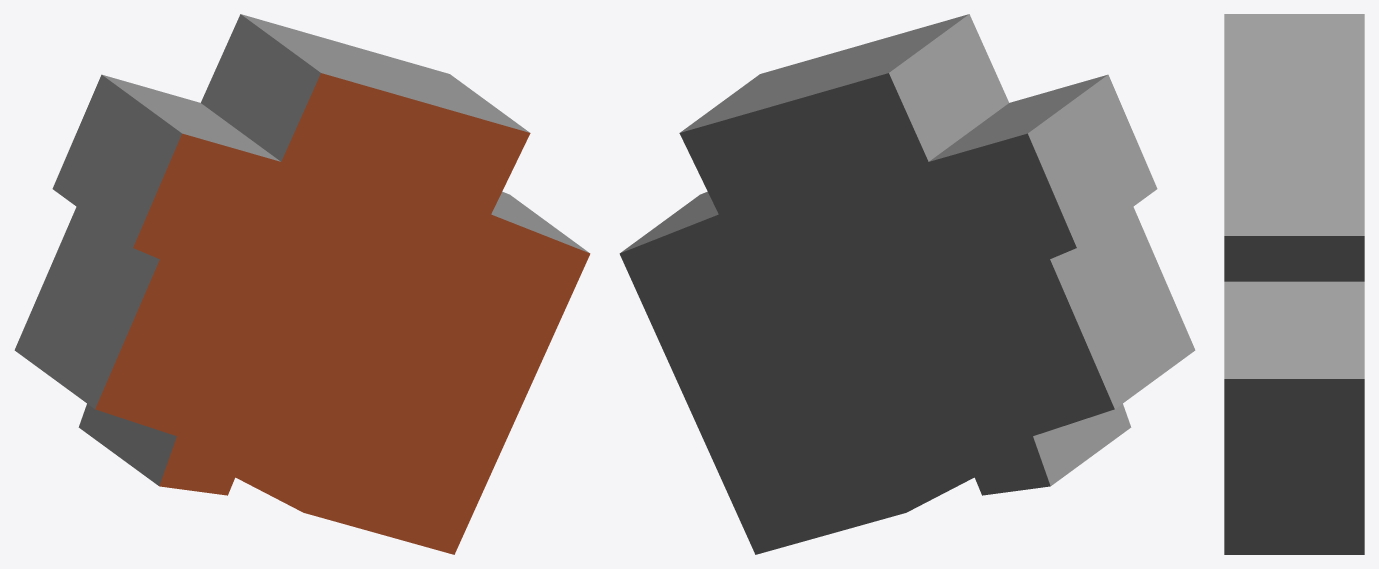
Rendered from construction_4880_assumed_A_Casa_h6m.obj.
The picture shows the model from 3 angles, left to right: view 1: azimuth 30°, elevation 25°; view 2: azimuth 150°, elevation 25°; view 3: azimuth 270°, elevation 25°; orthographic projection. The views are drawn at different scales.
Parts seen in each view (by area): view 1: construction_4880_assumed_A_Casa; view 2: construction_4880_assumed_A_Casa; view 3: construction_4880_assumed_A_Casa.
Part boxes in pixels (x1,y1,x2,y2): construction_4880_assumed_A_Casa: (14,14,590,554); construction_4880_assumed_A_Casa: (619,14,1195,554); construction_4880_assumed_A_Casa: (1224,14,1364,554).
Bounding box in the file's own units: 21.28 × 21.12 × 6.
